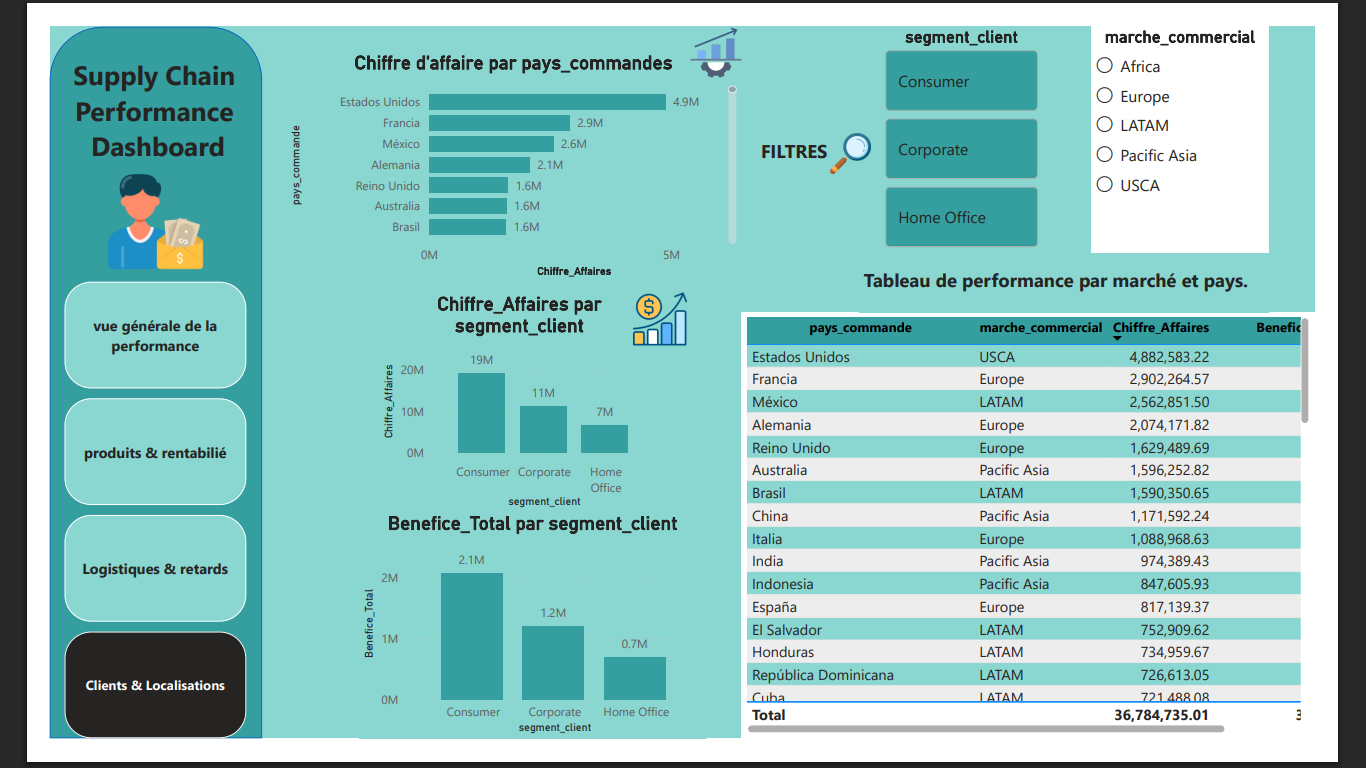

The dashboard page shown, as its layout file describes it:
{"tool":"powerbi","page":{"name":"Clients & Localisations ","canvas":[1280,720],"ordinal":3},"visuals":[{"type":"textbox","box":[715,107.5,111.2,55],"z":0},{"type":"shape","box":[0,0,215,720],"z":1000},{"type":"clusteredColumnChart","fields":{"Y":["mesures.Benefice_Total"],"Category":["Clients.segment_client"]},"box":[312.5,491.2,352.5,228.8],"z":2000},{"type":"clusteredColumnChart","fields":{"Y":["mesures.Chiffre_Affaires"],"Category":["Clients.segment_client"]},"box":[332.5,268.8,285,222.5],"z":3000},{"type":"clusteredBarChart","title":"Chiffre d''affaire par pays_commandes","fields":{"Y":["mesures.Chiffre_Affaires"],"Category":["Localisation.pays_commande"]},"box":[238.8,25,461.2,232.5],"z":4000},{"type":"tableEx","fields":{"Values":["Localisation.pays_commande","Localisation.marche_commercial","mesures.Chiffre_Affaires","mesures.Benefice_Total"]},"box":[700,288.8,580,431.2],"z":5000},{"type":"advancedSlicerVisual","fields":{"Values":["Clients.segment_client"]},"box":[841.2,0,163.8,228.8],"z":6000},{"type":"listSlicer","fields":{"Values":["Localisation.marche_commercial"]},"box":[1053.8,0,180,228.8],"z":7000},{"type":"textbox","box":[818.8,237.5,415,51.2],"z":8000},{"type":"pageNavigator","box":[15,257.5,183.8,462.5],"z":9000},{"type":"textbox","box":[12.5,25,186.2,137.5],"z":10000},{"type":"image","box":[56.2,135,101.2,122.5],"z":11000},{"type":"image","box":[762.5,107.5,95,41.2],"z":12000},{"type":"image","box":[560,268.8,115,53.8],"z":12001},{"type":"image","box":[632.5,0,82.5,52.5],"z":12002}]}

Visuals, with their boxes in screenshot pixels (x1, y1, x2, y2), scaled from the page's 1280x720 canvas onto the 1366x768 screenshot:
textbox: 763, 115, 882, 173
shape: 0, 0, 229, 767
clusteredColumnChart - mesures.Benefice_Total x Clients.segment_client: 333, 524, 710, 767
clusteredColumnChart - mesures.Chiffre_Affaires x Clients.segment_client: 355, 287, 659, 524
"Chiffre d''affaire par pays_commandes" clusteredBarChart: 255, 27, 747, 275
tableEx - Localisation.pays_commande x Localisation.marche_commercial: 747, 308, 1365, 767
advancedSlicerVisual - Clients.segment_client: 898, 0, 1073, 244
listSlicer - Localisation.marche_commercial: 1125, 0, 1317, 244
textbox: 874, 253, 1317, 308
pageNavigator: 16, 275, 212, 767
textbox: 13, 27, 212, 173
image: 60, 144, 168, 275
image: 814, 115, 915, 159
image: 598, 287, 720, 344
image: 675, 0, 763, 56
